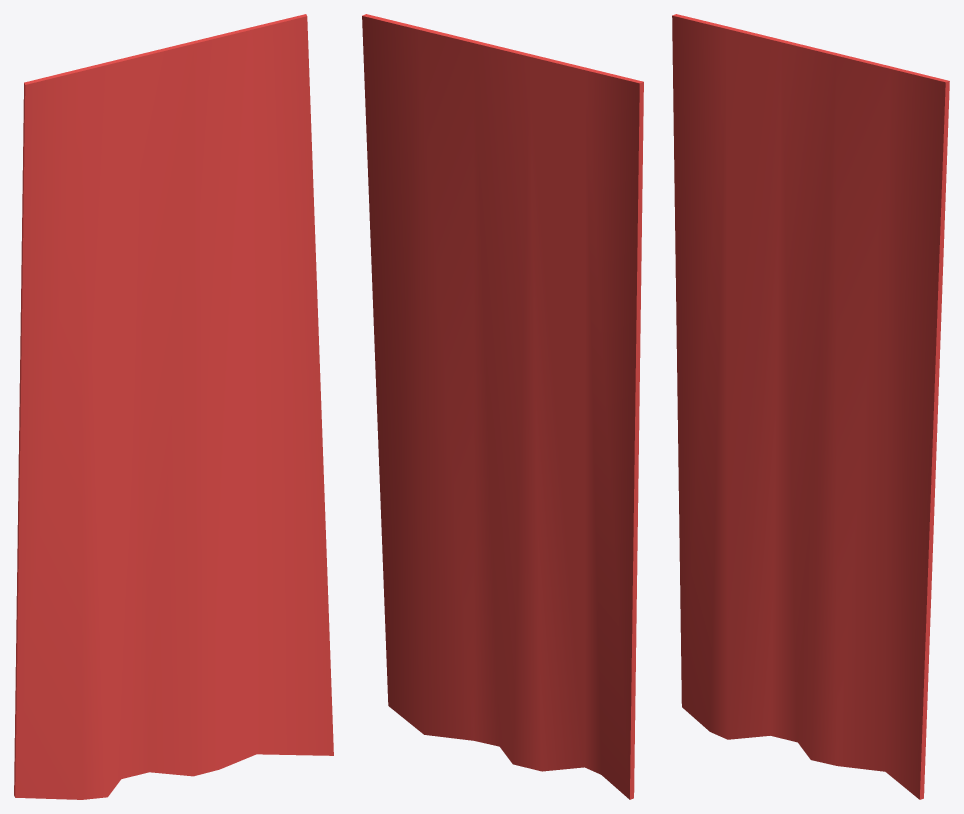
The model's file is Curtains_010.glb.
3 renders of one model, left to right at view 1: azimuth 30°, elevation 25°; view 2: azimuth 150°, elevation 25°; view 3: azimuth 330°, elevation 25°, orthographic. The views are drawn at different scales.
Visible parts, largest first — view 1: Curtains_010; view 2: Curtains_010; view 3: Curtains_010.
Boxes of the visible parts, x1=… form: Curtains_010: x1=14, y1=14, x2=333, y2=799; Curtains_010: x1=362, y1=14, x2=643, y2=799; Curtains_010: x1=672, y1=14, x2=949, y2=799.
Size of the model in its own units: 1.11 by 2.7 by 0.2682.
Materials: 1 (1 with a texture image).
